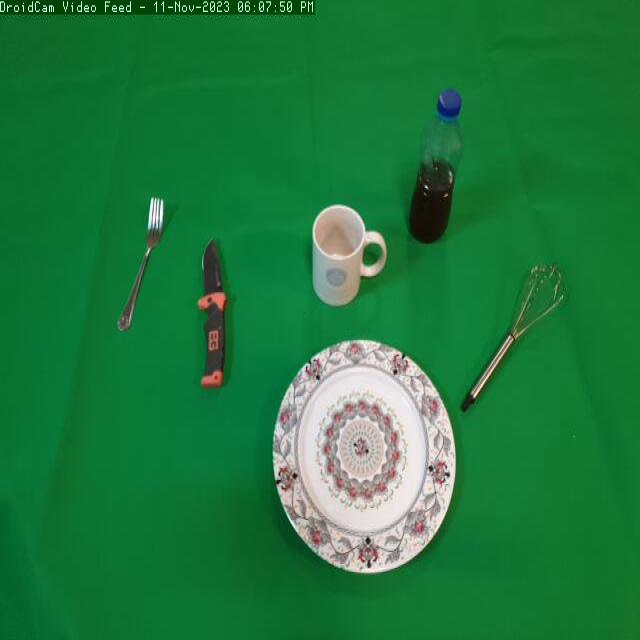cup: (306, 197, 392, 321)
fork: (113, 184, 180, 339)
fullbottle: (403, 81, 472, 257)
knife: (188, 228, 244, 400)
plate: (262, 333, 462, 587)
whisk: (456, 256, 574, 423)
